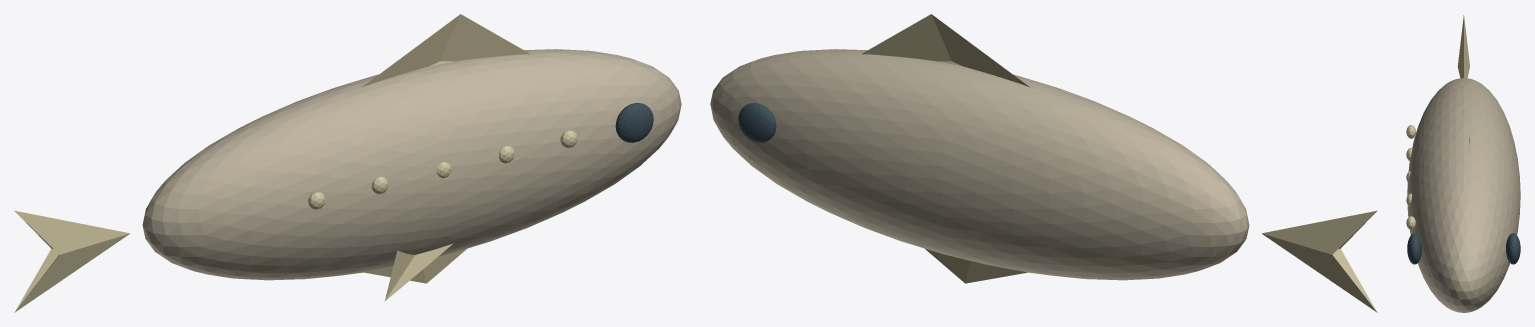
Rendered from Ikan_Gerut-Gerut.glb.
3 views of the same model, side by side, from view 1: azimuth 30°, elevation 25°; view 2: azimuth 150°, elevation 25°; view 3: azimuth 270°, elevation 25° (orthographic). The views are drawn at different scales.
Parts seen in each view (by area): view 1: Part_00, Part_01, Part_02, Part_04, Part_05, Part_03; view 2: Part_00, Part_01, Part_02, Part_03, Part_06; view 3: Part_00, Part_01, Part_05, Part_06, Part_07, Part_11.
Part boxes in pixels (x1=…): Part_00: x1=142, y1=49, x2=681, y2=280; Part_01: x1=14, y1=210, x2=130, y2=312; Part_02: x1=362, y1=14, x2=530, y2=87; Part_04: x1=384, y1=243, x2=453, y2=301; Part_05: x1=615, y1=103, x2=653, y2=142; Part_03: x1=364, y1=248, x2=466, y2=283; Part_00: x1=710, y1=49, x2=1249, y2=280; Part_01: x1=1261, y1=210, x2=1377, y2=312; Part_02: x1=861, y1=14, x2=1029, y2=87; Part_03: x1=925, y1=248, x2=1027, y2=283; Part_06: x1=738, y1=103, x2=776, y2=142; Part_00: x1=1407, y1=78, x2=1520, y2=312; Part_01: x1=1457, y1=15, x2=1469, y2=78; Part_05: x1=1407, y1=233, x2=1421, y2=264; Part_06: x1=1506, y1=233, x2=1520, y2=264; Part_07: x1=1406, y1=125, x2=1415, y2=138; Part_11: x1=1406, y1=216, x2=1415, y2=229.
Size of the model in its own units: 1.37 by 0.5148 by 0.2762.
